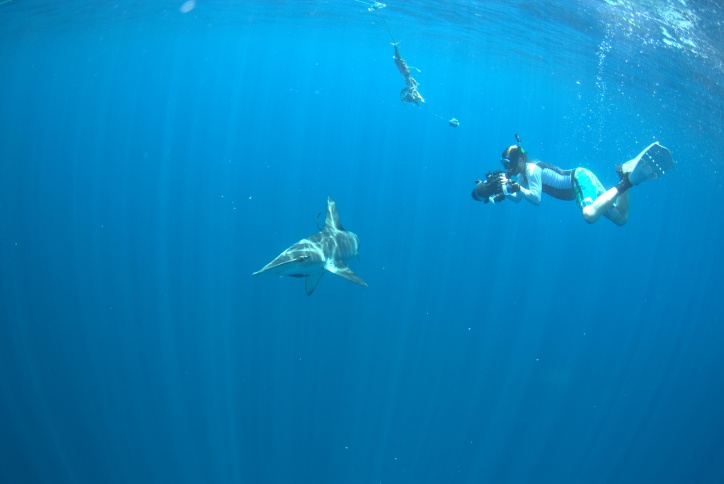Hammer: (233, 189, 390, 325)
